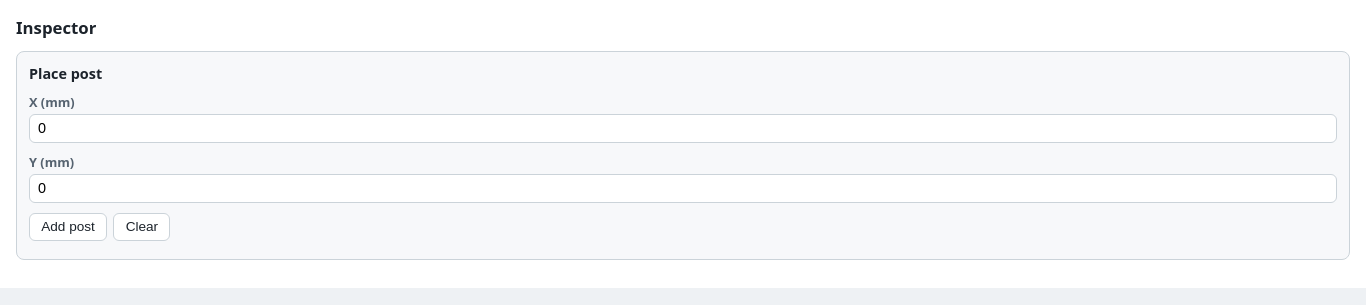
Inspector keyboard post placement panel › clears the typed coordinates back to zero
Replace the text in the number field labelled "X (mm)" with "1200" at [683, 128], box [29,114,1337,143]
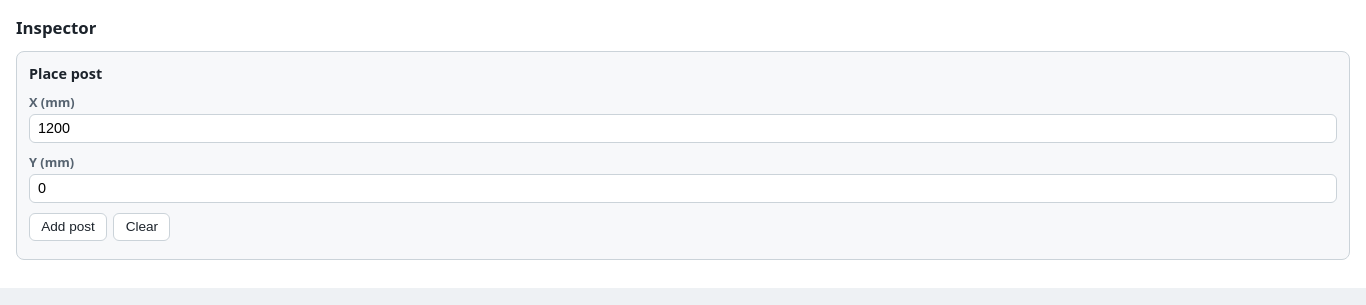
Replace the text in the number field labelled "Y (mm)" with "3400" at [683, 188], box [29,174,1337,203]
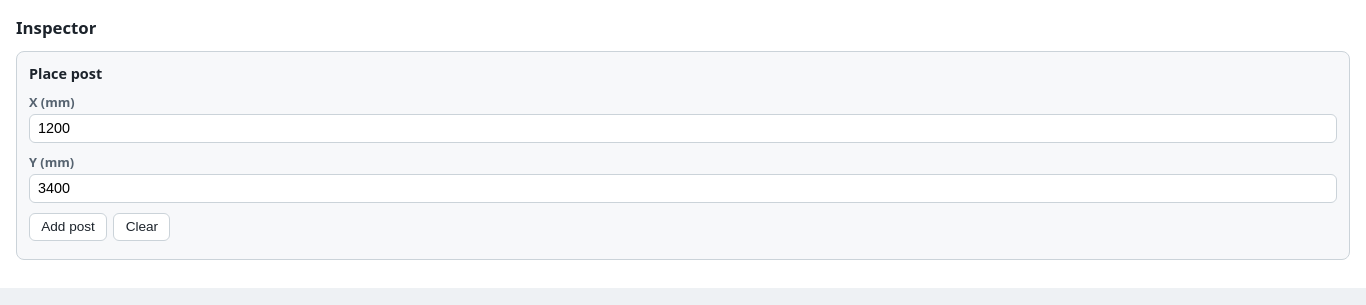
Click the button "Clear" at [142, 227], box [113,212,170,241]
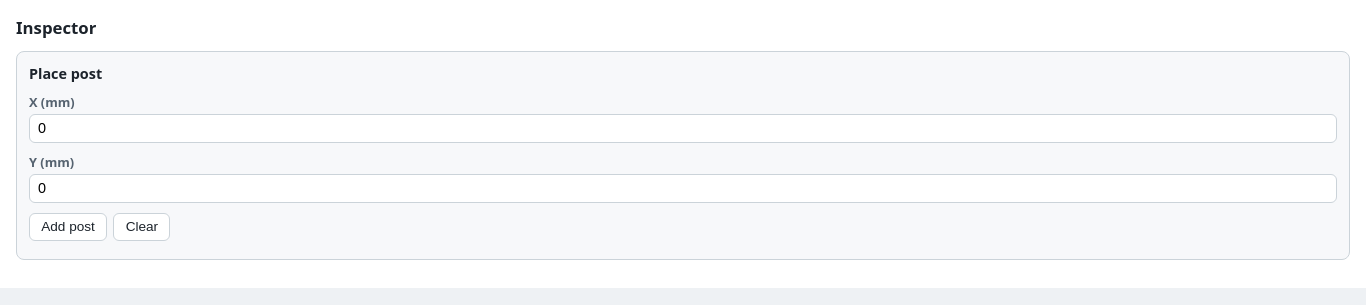
expect the number field labelled "X (mm)" holds "0": met, box [29,114,1337,143]
expect the number field labelled "Y (mm)" holds "0": met, box [29,174,1337,203]
